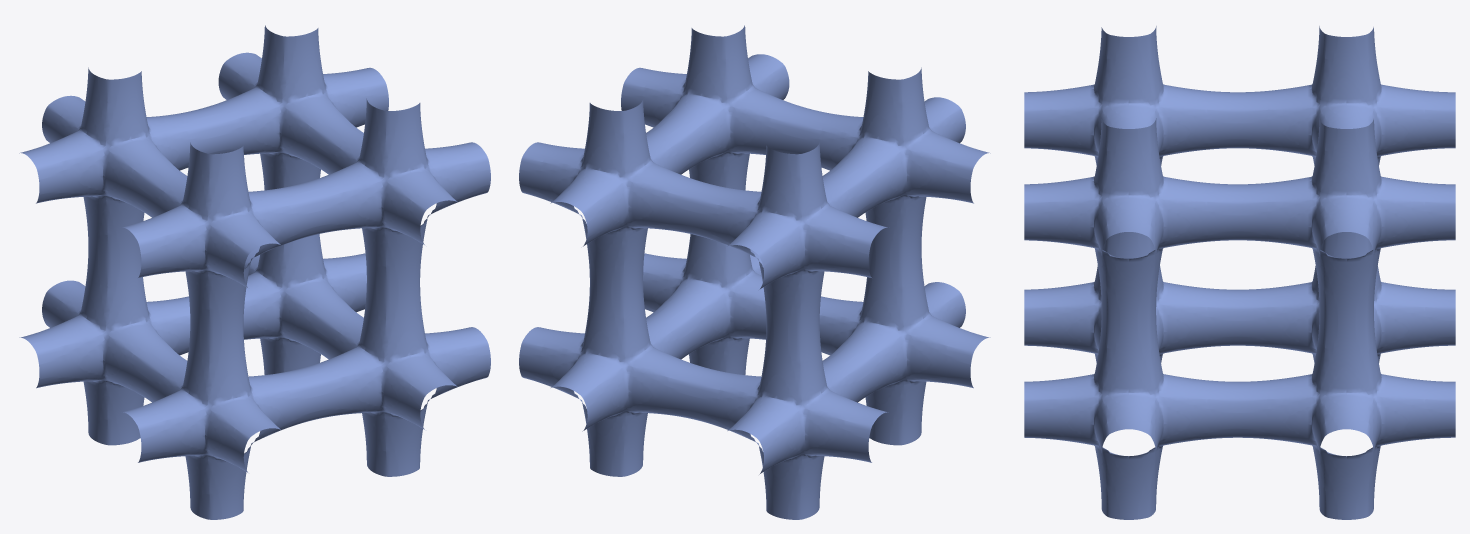
The picture shows the model from 3 angles, left to right: view 1: azimuth 30°, elevation 25°; view 2: azimuth 150°, elevation 25°; view 3: azimuth 270°, elevation 25°; orthographic projection. The views are drawn at different scales.
Visible parts, largest first — view 1: world; view 2: world; view 3: world.
Part boxes in pixels (x1,y1,x2,y2): world: (19,25,490,519); world: (519,25,990,519); world: (1024,26,1455,519).
Bounding box in the file's own units: 99 × 99 × 99.
